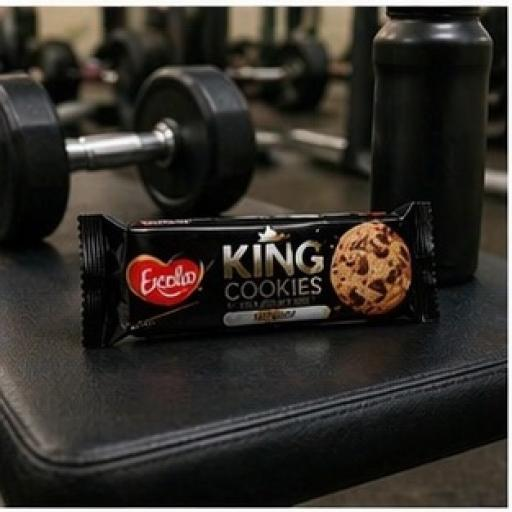king_cooking: (56, 149, 467, 405)
